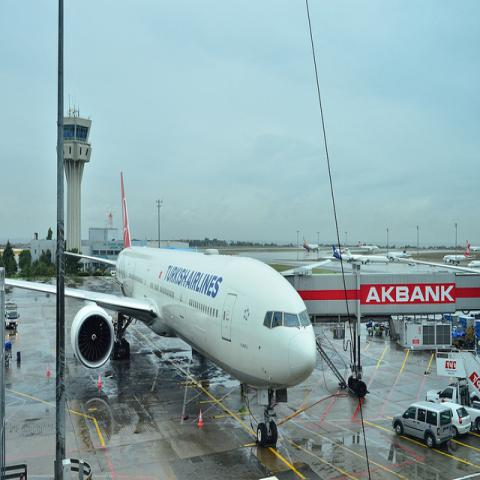car: (391, 400, 455, 449), (439, 401, 471, 437)
truck: (425, 380, 479, 434), (4, 300, 20, 330)
